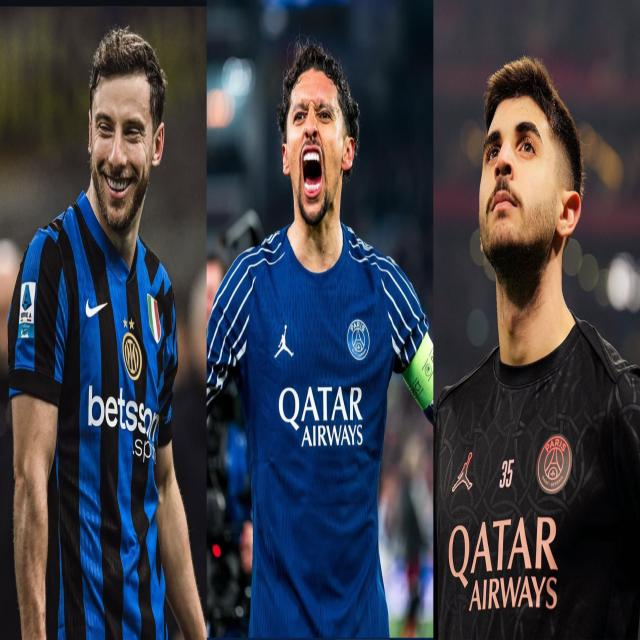sem_oculos: (471, 124, 579, 166), (85, 98, 170, 148), (260, 90, 360, 131)
